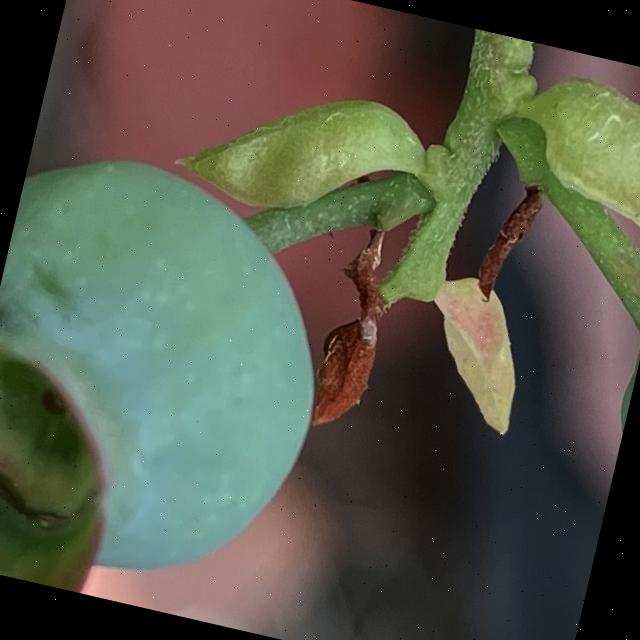Blueberries: (0, 130, 367, 636)
